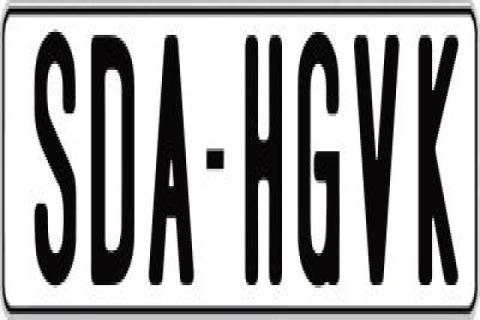A: (148, 32, 198, 294)
D: (90, 32, 140, 285)
G: (296, 26, 344, 291)
H: (242, 29, 286, 291)
K: (420, 32, 464, 294)
S: (32, 24, 72, 282)
V: (350, 26, 400, 294)
